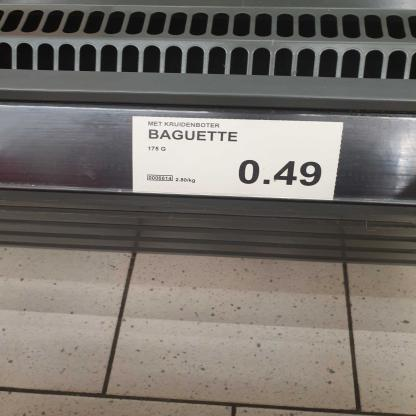prtg: (133, 117, 345, 200)
